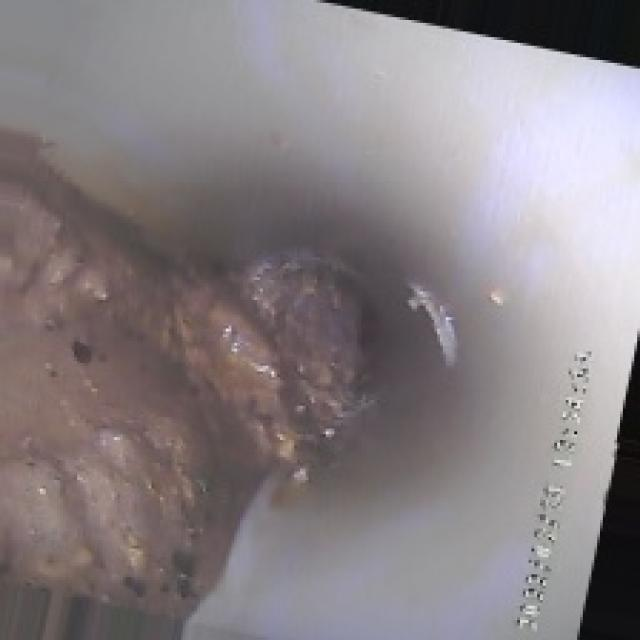sluge accumulation: (9, 152, 377, 634)
